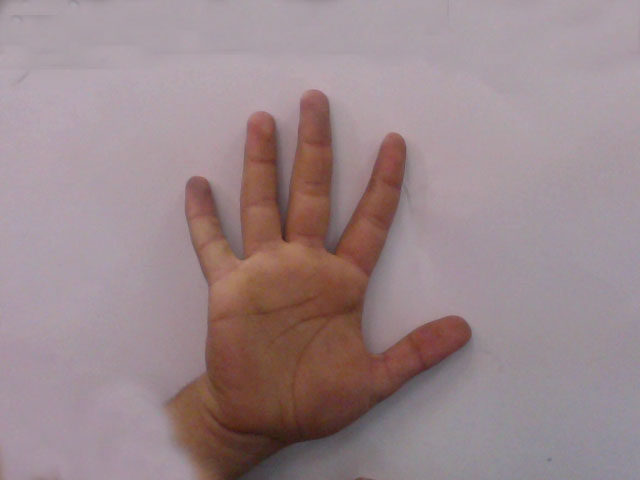hand: (160, 79, 486, 429)
